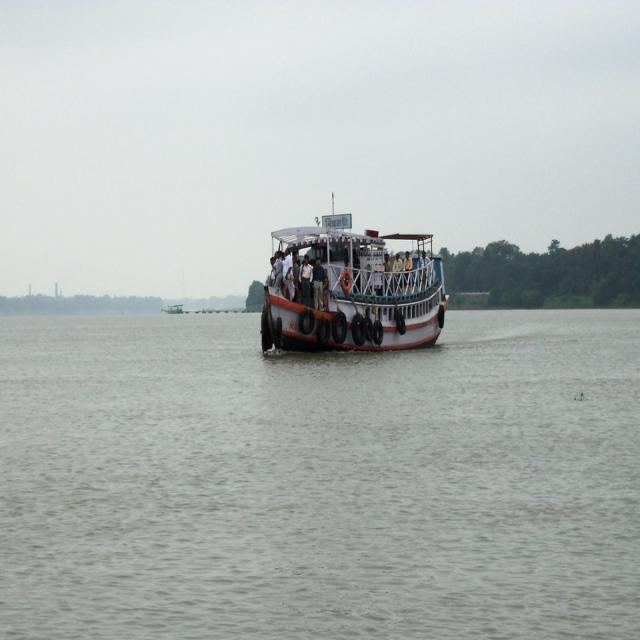fishing boat: (244, 200, 451, 365)
